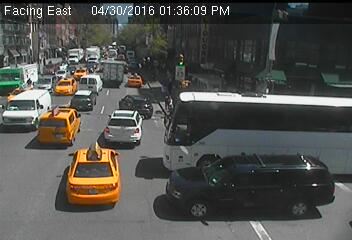neg: (255, 97, 294, 149), (300, 129, 337, 178), (11, 29, 44, 73), (38, 110, 70, 152), (16, 166, 44, 204), (96, 14, 122, 49), (214, 84, 238, 116), (81, 167, 103, 196), (275, 48, 297, 77), (133, 55, 154, 83), (259, 180, 280, 208), (177, 173, 197, 200), (67, 63, 86, 89), (180, 69, 197, 92), (115, 109, 132, 131), (165, 126, 181, 147)
